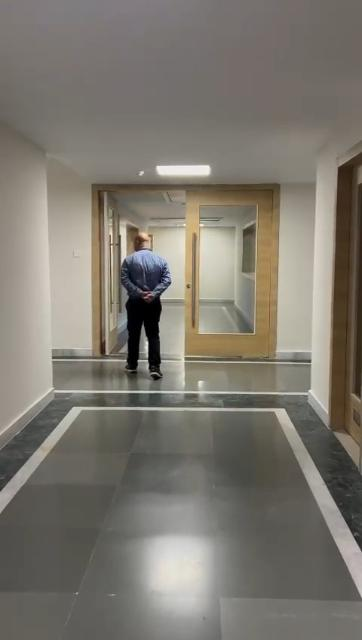door: (187, 191, 271, 357), (335, 158, 362, 430)
floor: (1, 356, 358, 640)
moving-obj: (106, 218, 180, 374)
wall: (2, 117, 90, 432), (288, 194, 330, 356)
